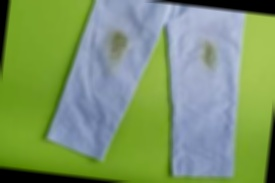earth: (107, 30, 128, 62), (198, 40, 220, 68)
